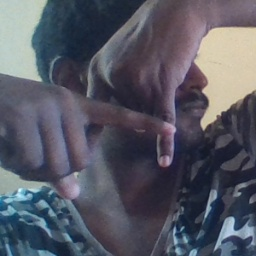H: (62, 57, 187, 175)
